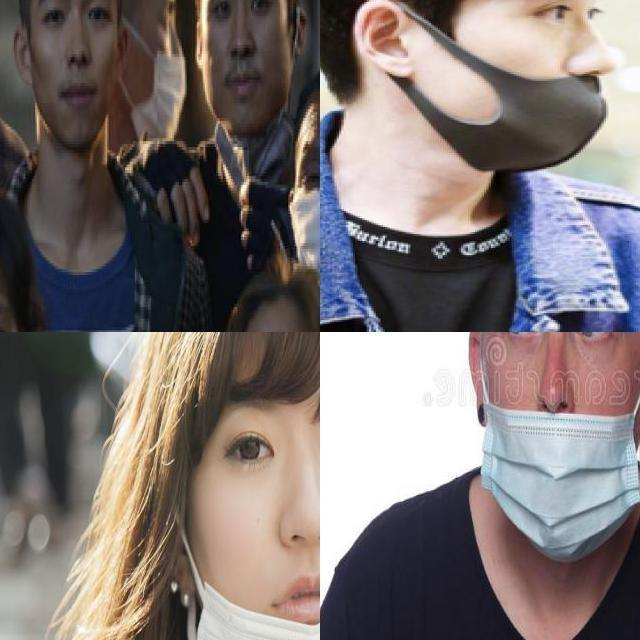hairnet: (418, 26, 622, 176), (487, 366, 626, 540), (193, 500, 325, 636)
no_hairnet: (21, 40, 121, 156), (192, 29, 283, 139)
